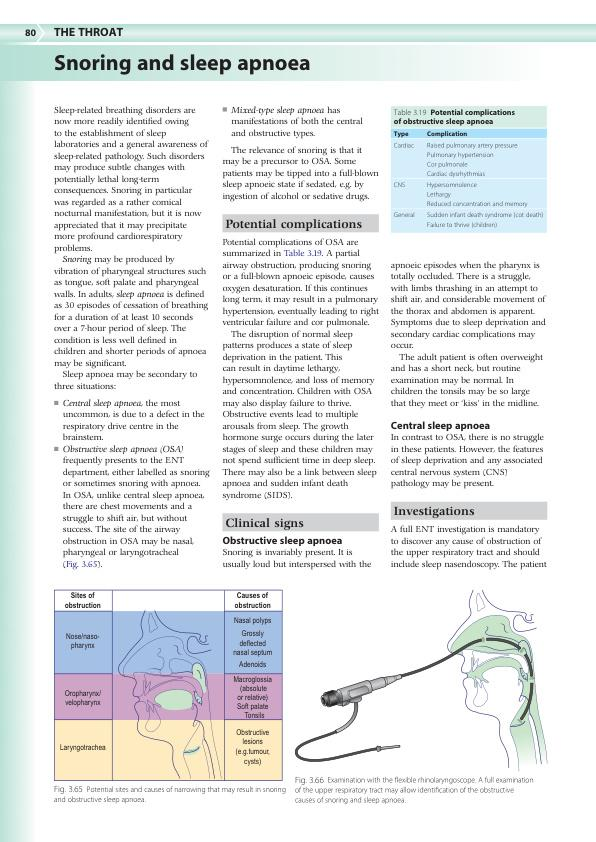caption: (293, 776, 535, 806), (53, 784, 287, 805), (392, 108, 516, 127)
chapter-heading: (54, 52, 312, 77)
header: (53, 27, 124, 38)
image: (289, 584, 554, 773), (53, 588, 283, 781)
list: (50, 397, 212, 572), (220, 104, 366, 139)
section-heading: (224, 218, 363, 232), (225, 516, 305, 531), (393, 505, 476, 519)
sub-section-heading: (222, 535, 344, 547), (390, 420, 491, 432)
table: (391, 129, 546, 232)
text: (52, 105, 211, 391), (221, 237, 382, 501), (389, 259, 547, 409), (221, 145, 380, 203), (390, 432, 545, 490), (389, 524, 547, 571), (222, 547, 373, 571)
